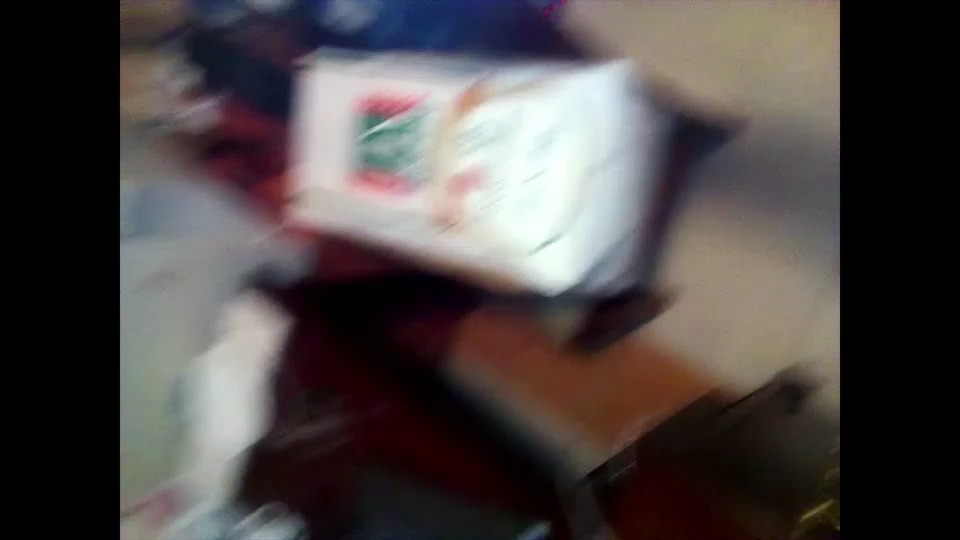maize_flour_green_label: (296, 60, 662, 279)
